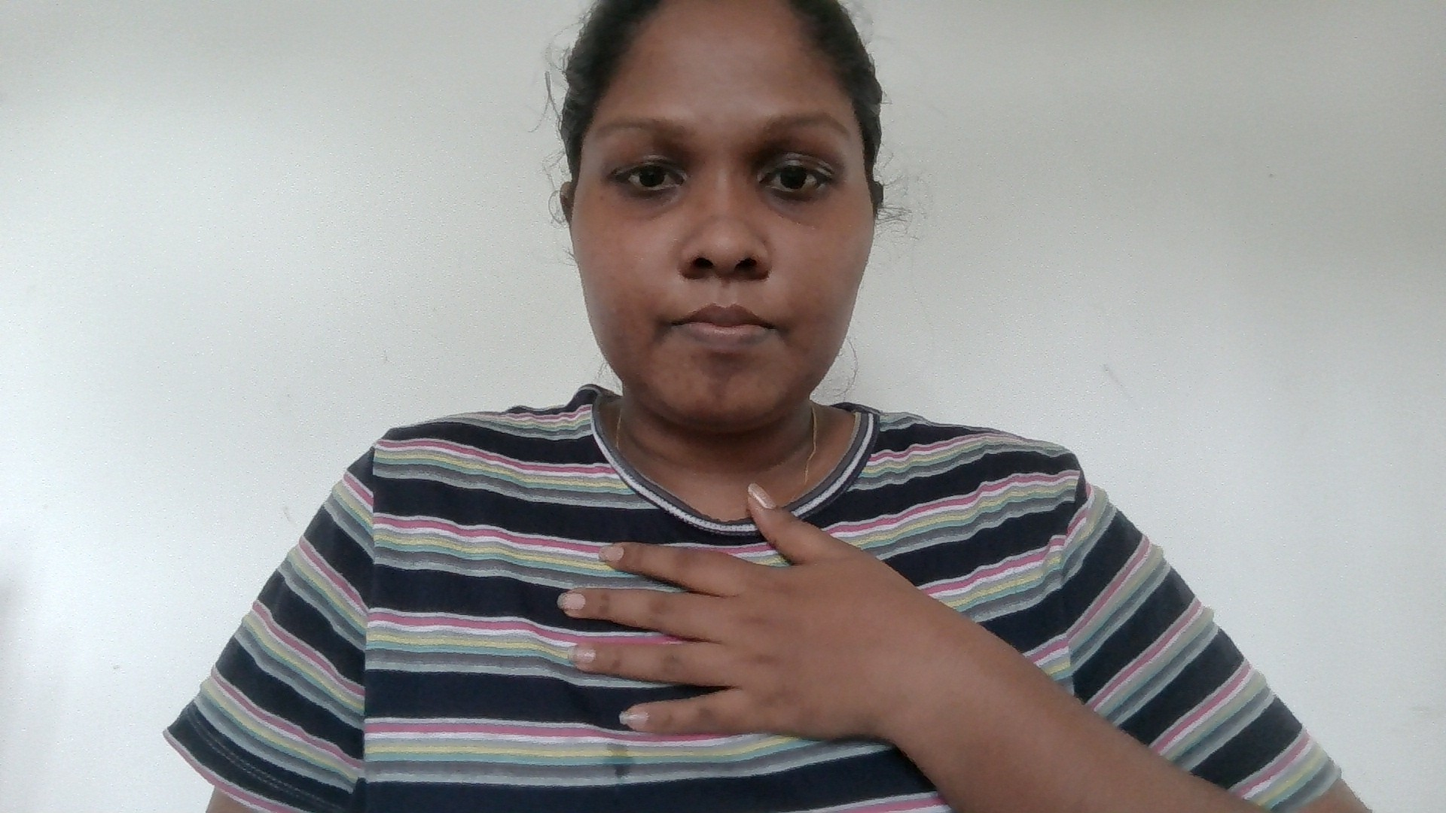Please: (486, 471, 1200, 782)
